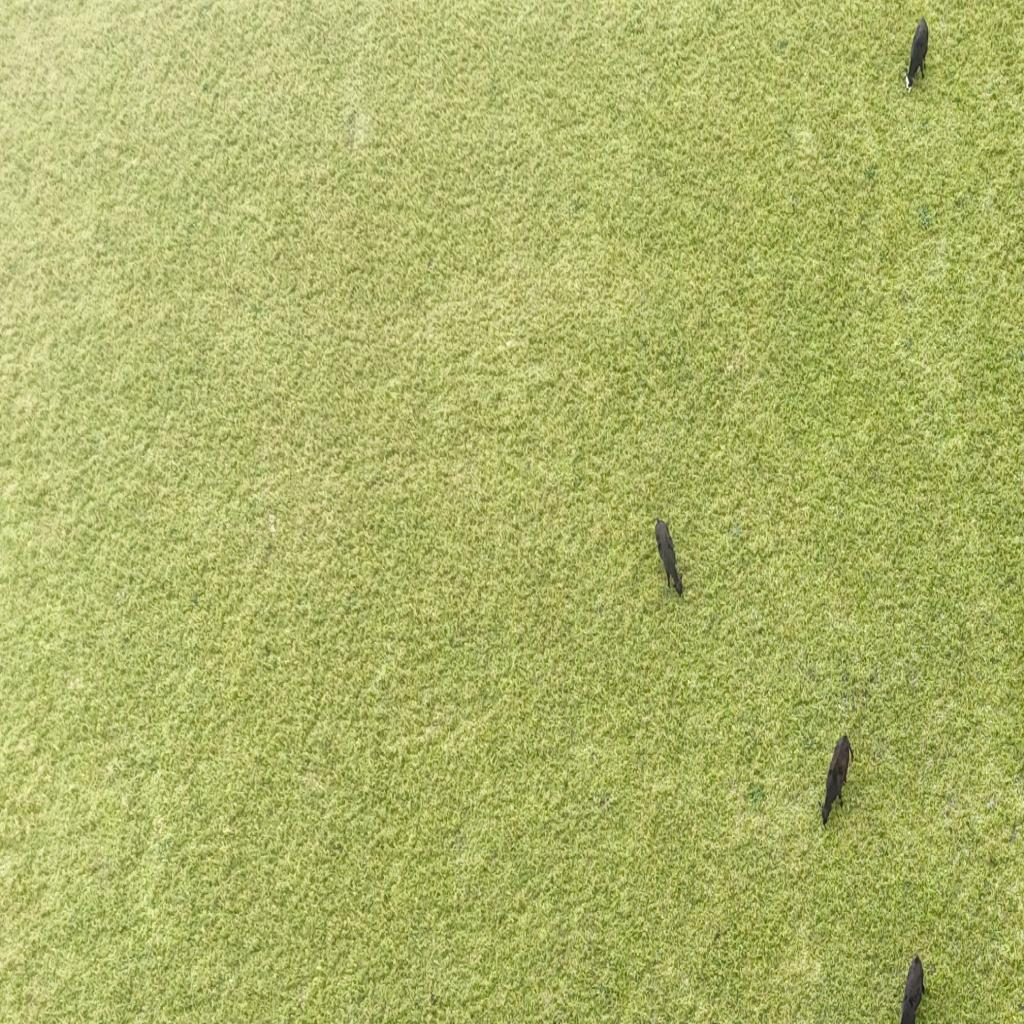cow: (816, 730, 855, 834), (651, 514, 683, 598), (900, 12, 932, 94), (896, 952, 928, 1024)
